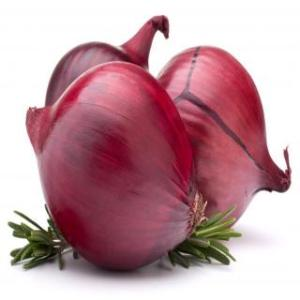onion: (25, 63, 201, 276), (153, 43, 291, 245), (44, 15, 168, 201)
